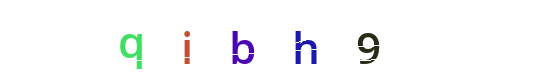9: (329, 0, 409, 80)
B: (228, 0, 308, 80)
H: (230, 0, 310, 80)
I: (210, 0, 290, 80)
Q: (92, 0, 172, 80)
